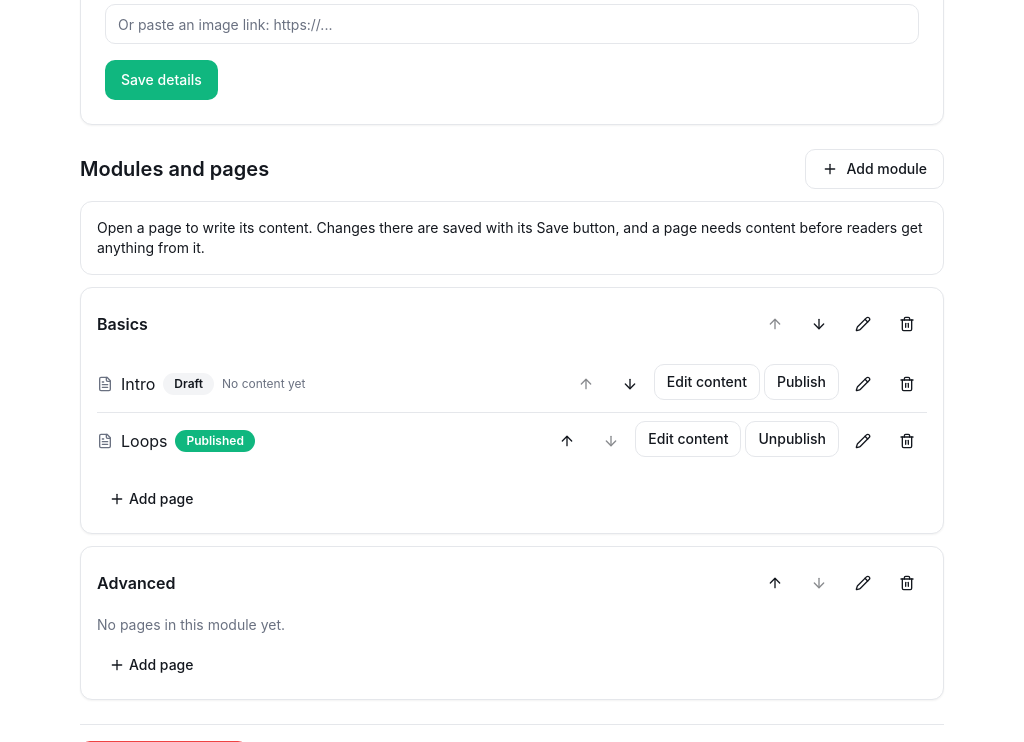
pages › reorders pages within their module
(page scrolled)
Expected: the button named "Move page Intro up" is disabled, [566,364,606,404]
Click the button named "Move page Intro down": [630, 384] box [610,364,650,404]
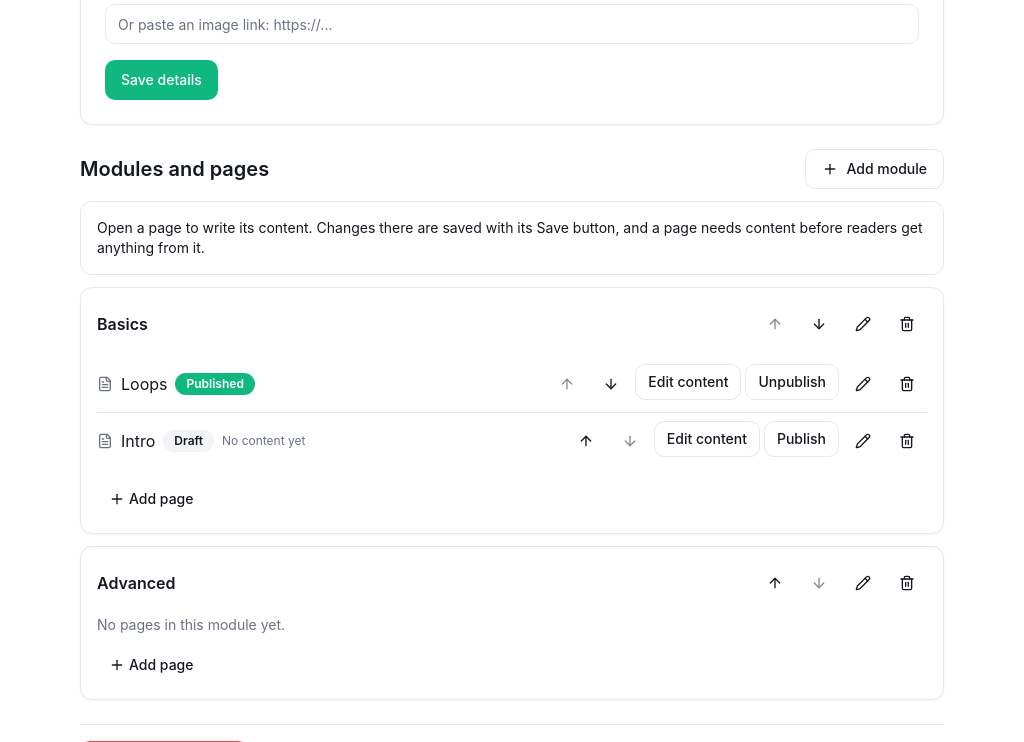
Result: the button named "Move page Intro up" is enabled at [566,421,606,461]
